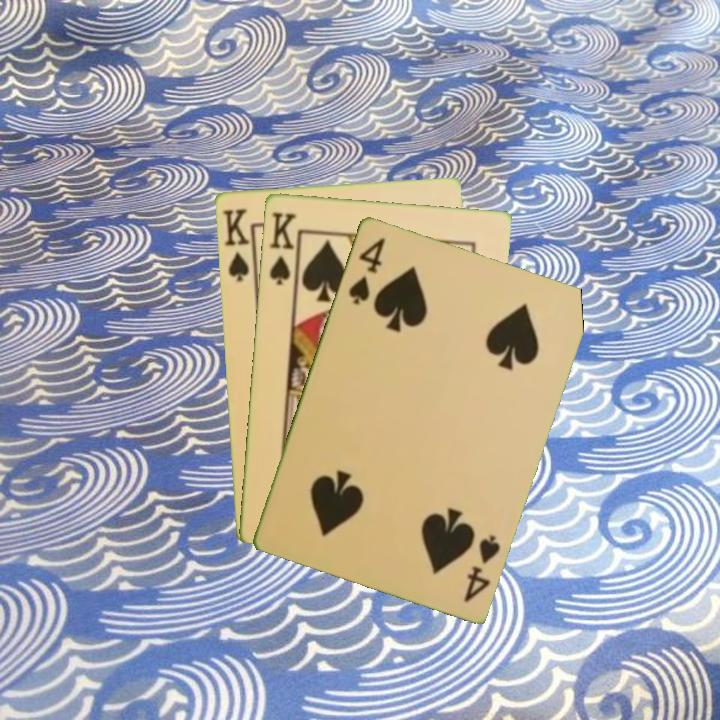4s: (344, 233, 388, 307), (460, 531, 503, 605)
Ks: (218, 205, 257, 284), (265, 208, 301, 288)
